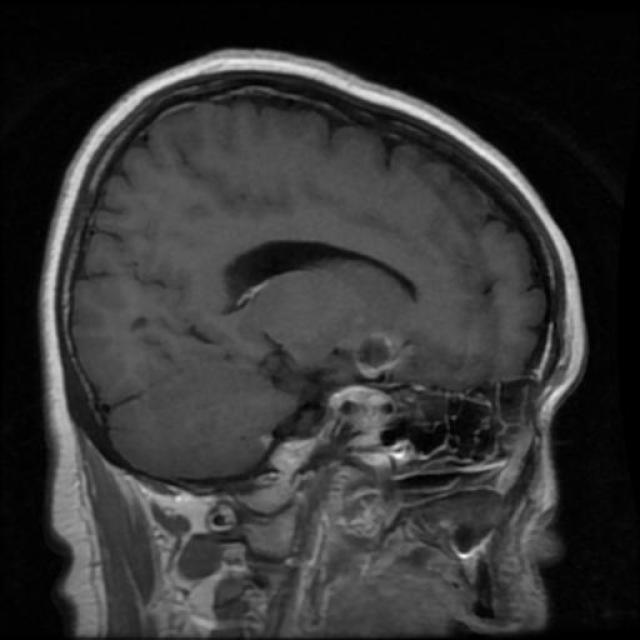pituitary: (308, 326, 416, 434)
